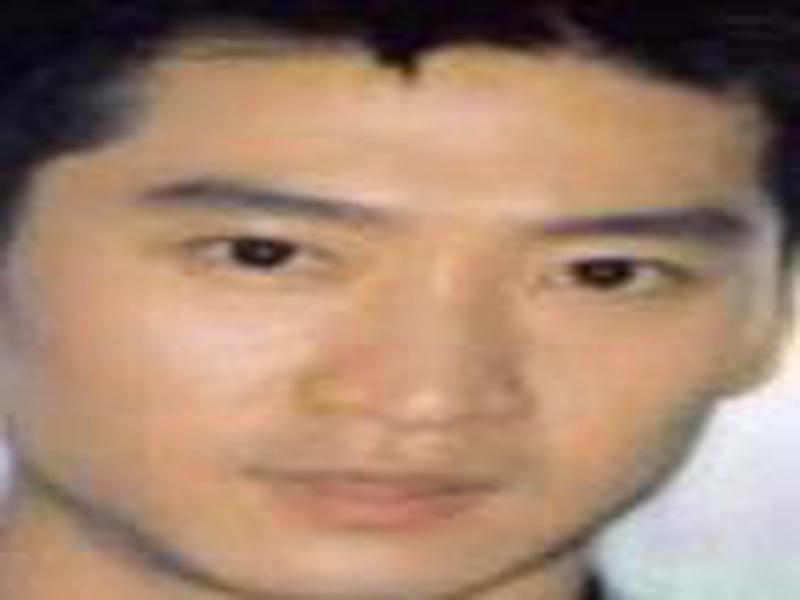without_mask: (27, 63, 766, 599)
